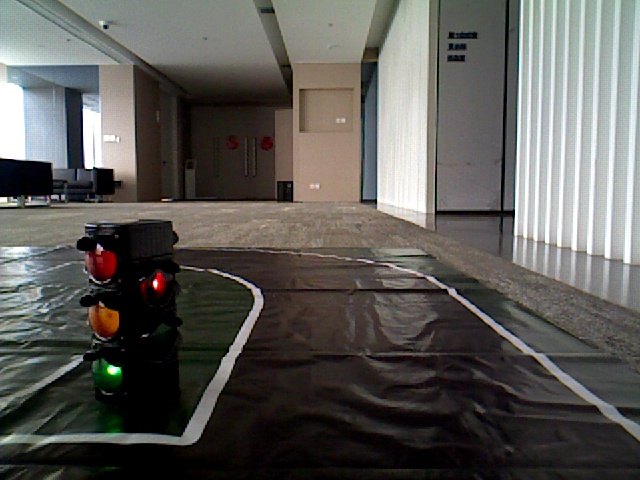green: (81, 232, 141, 389)
